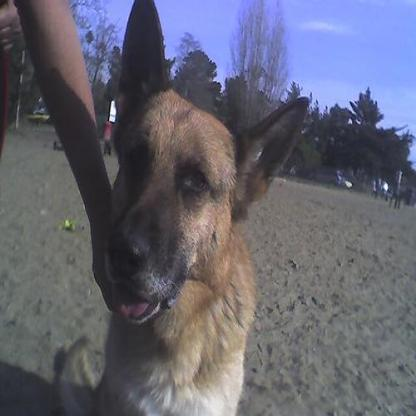German_shepherd: (56, 0, 313, 413)
